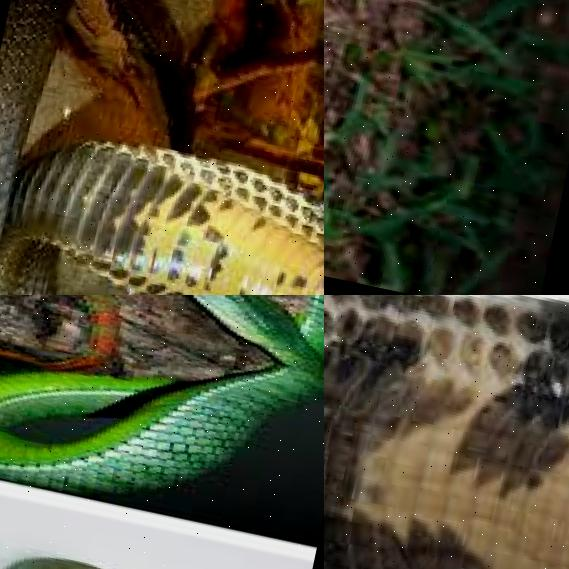1: (0, 0, 324, 295)
5: (324, 295, 569, 569)
snake: (324, 0, 512, 295)
